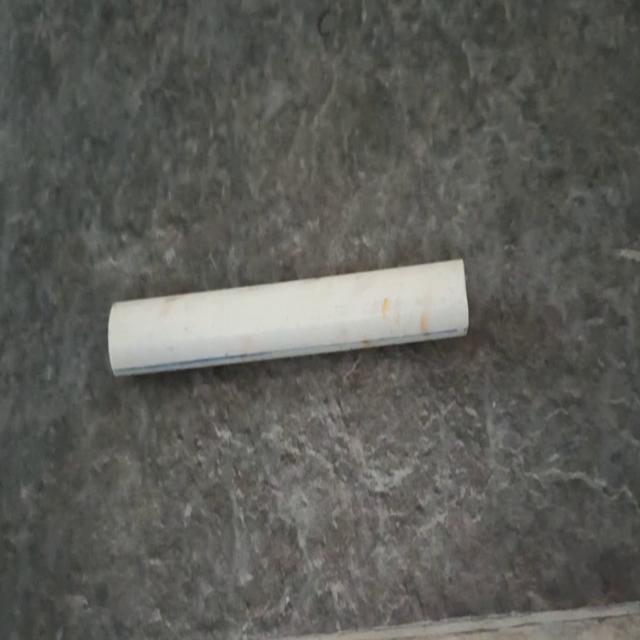Cube: (106, 255, 470, 378)
